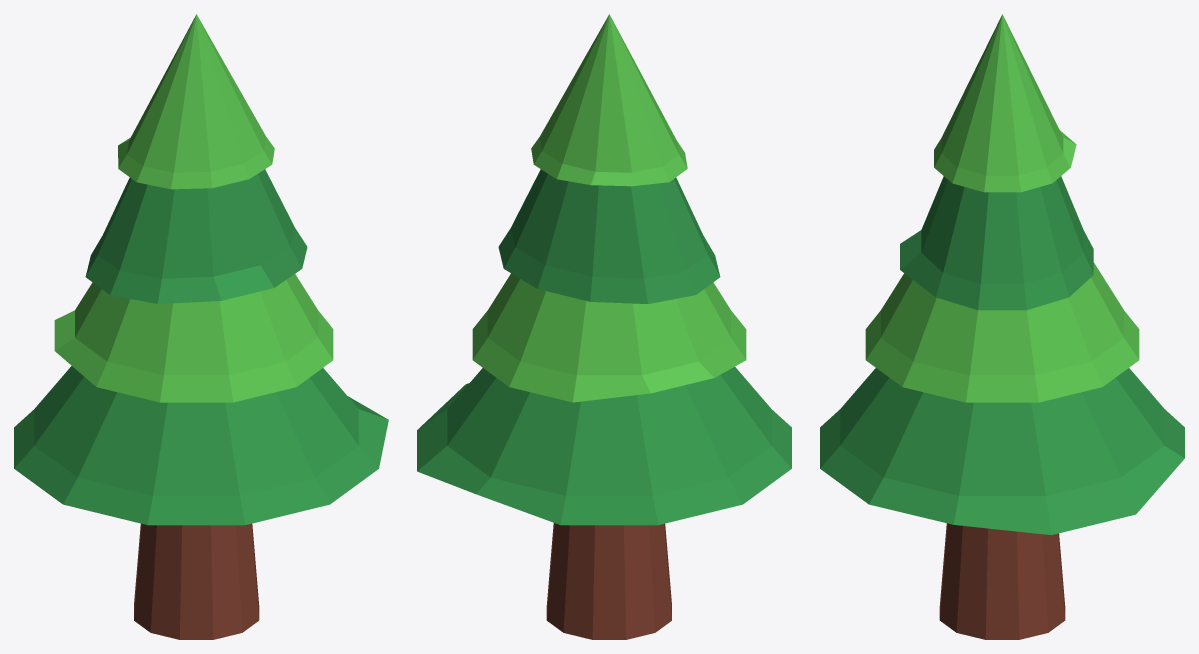
File: pinetree3.glb
The picture shows the model from 3 angles, left to right: view 1: azimuth 30°, elevation 25°; view 2: azimuth 150°, elevation 25°; view 3: azimuth 270°, elevation 25°; orthographic projection.
Visible parts, largest first — view 1: cone; view 2: cone; view 3: cone.
Part boxes in pixels (x1,y1,x2,y2): cone: (14, 14, 388, 639); cone: (417, 14, 791, 639); cone: (820, 14, 1184, 639).
Bounding box in the file's own units: 1.03 × 1.81 × 1.
Materials: 1 (1 with a texture image).
